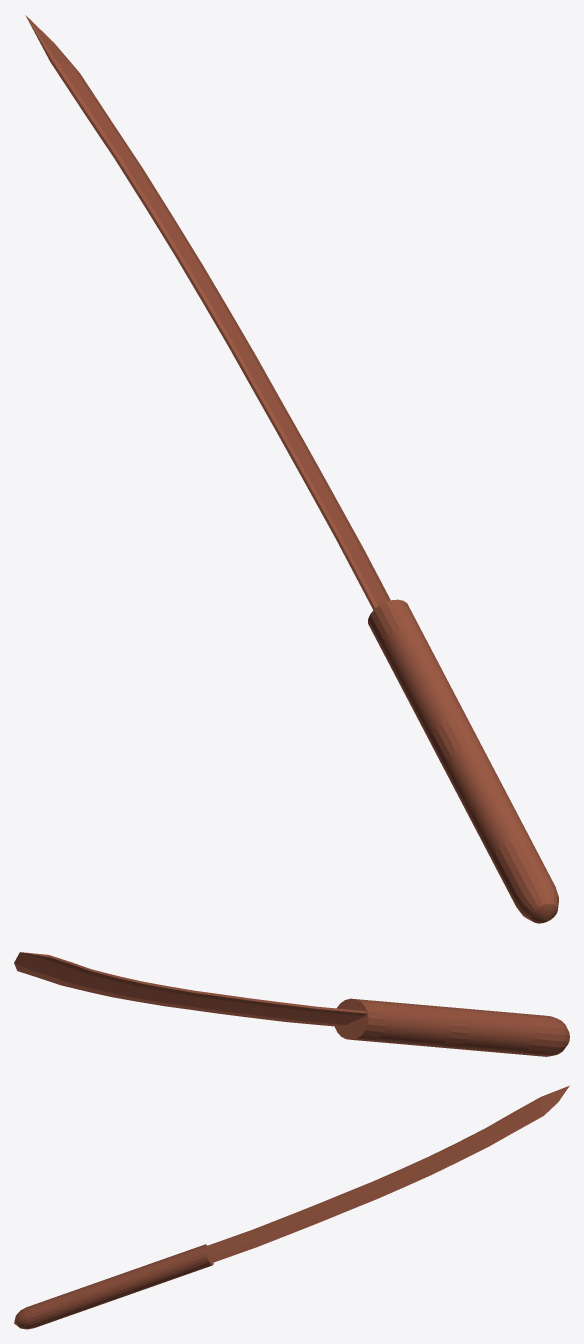
File: Sword.fbx
The picture shows the model from 3 angles, top to bottom: view 1: azimuth 30°, elevation 25°; view 2: azimuth 150°, elevation 25°; view 3: azimuth 270°, elevation 25°; orthographic projection. The views are drawn at different scales.
Visible parts, largest first — view 1: pCube117; view 2: pCube117; view 3: pCube117.
Part boxes in pixels (x1,y1,x2,y2): pCube117: (25,15,558,923); pCube117: (14,952,569,1056); pCube117: (14,1085,569,1329).
Size of the model in its own units: 0.3441 by 1.86 by 3.74.
